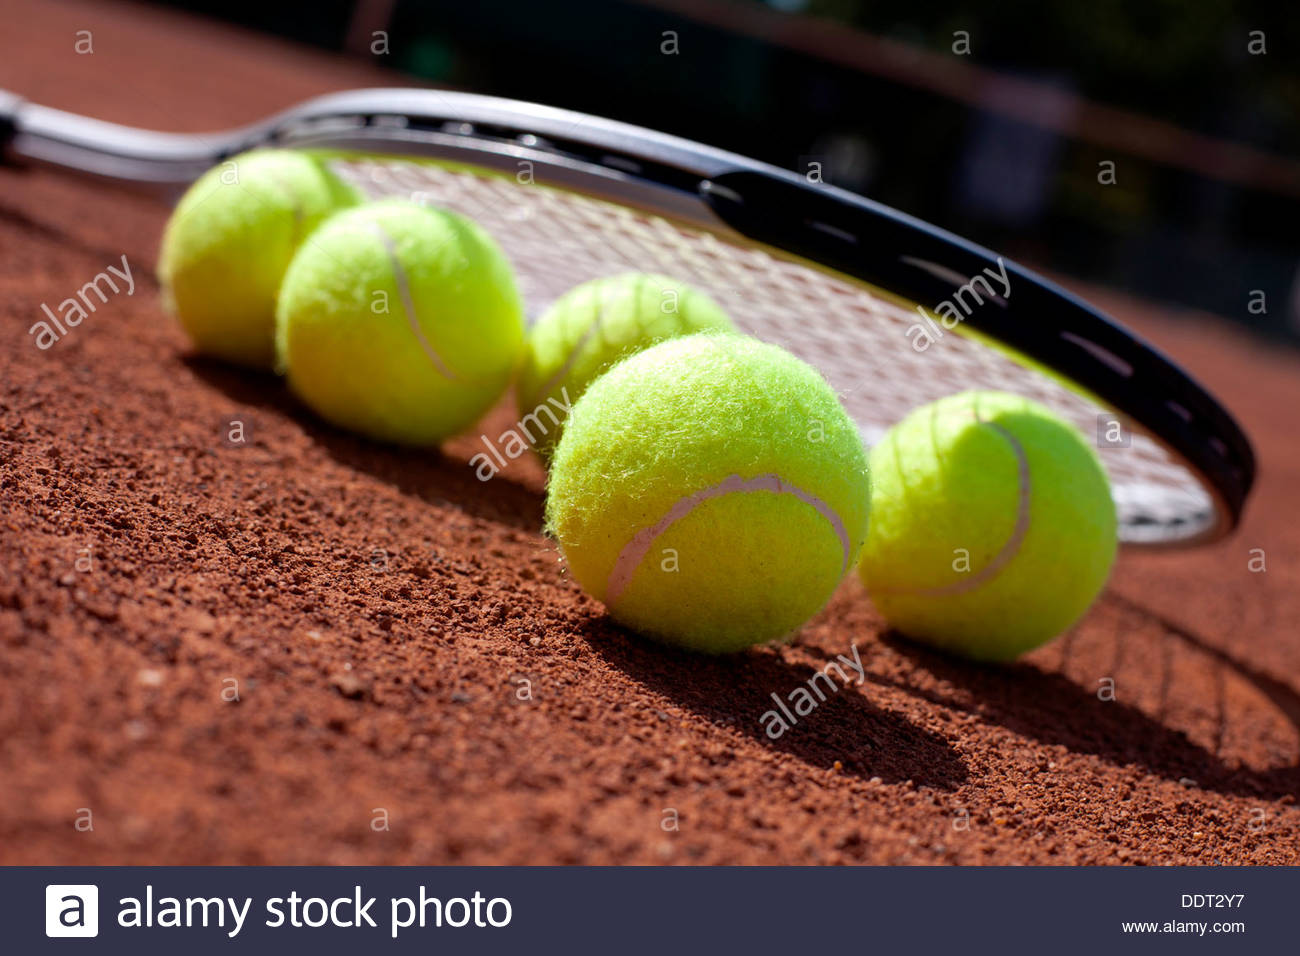tennis_ball: (544, 328, 874, 661), (859, 389, 1126, 670), (270, 198, 528, 470), (162, 146, 363, 376), (526, 263, 732, 468)
